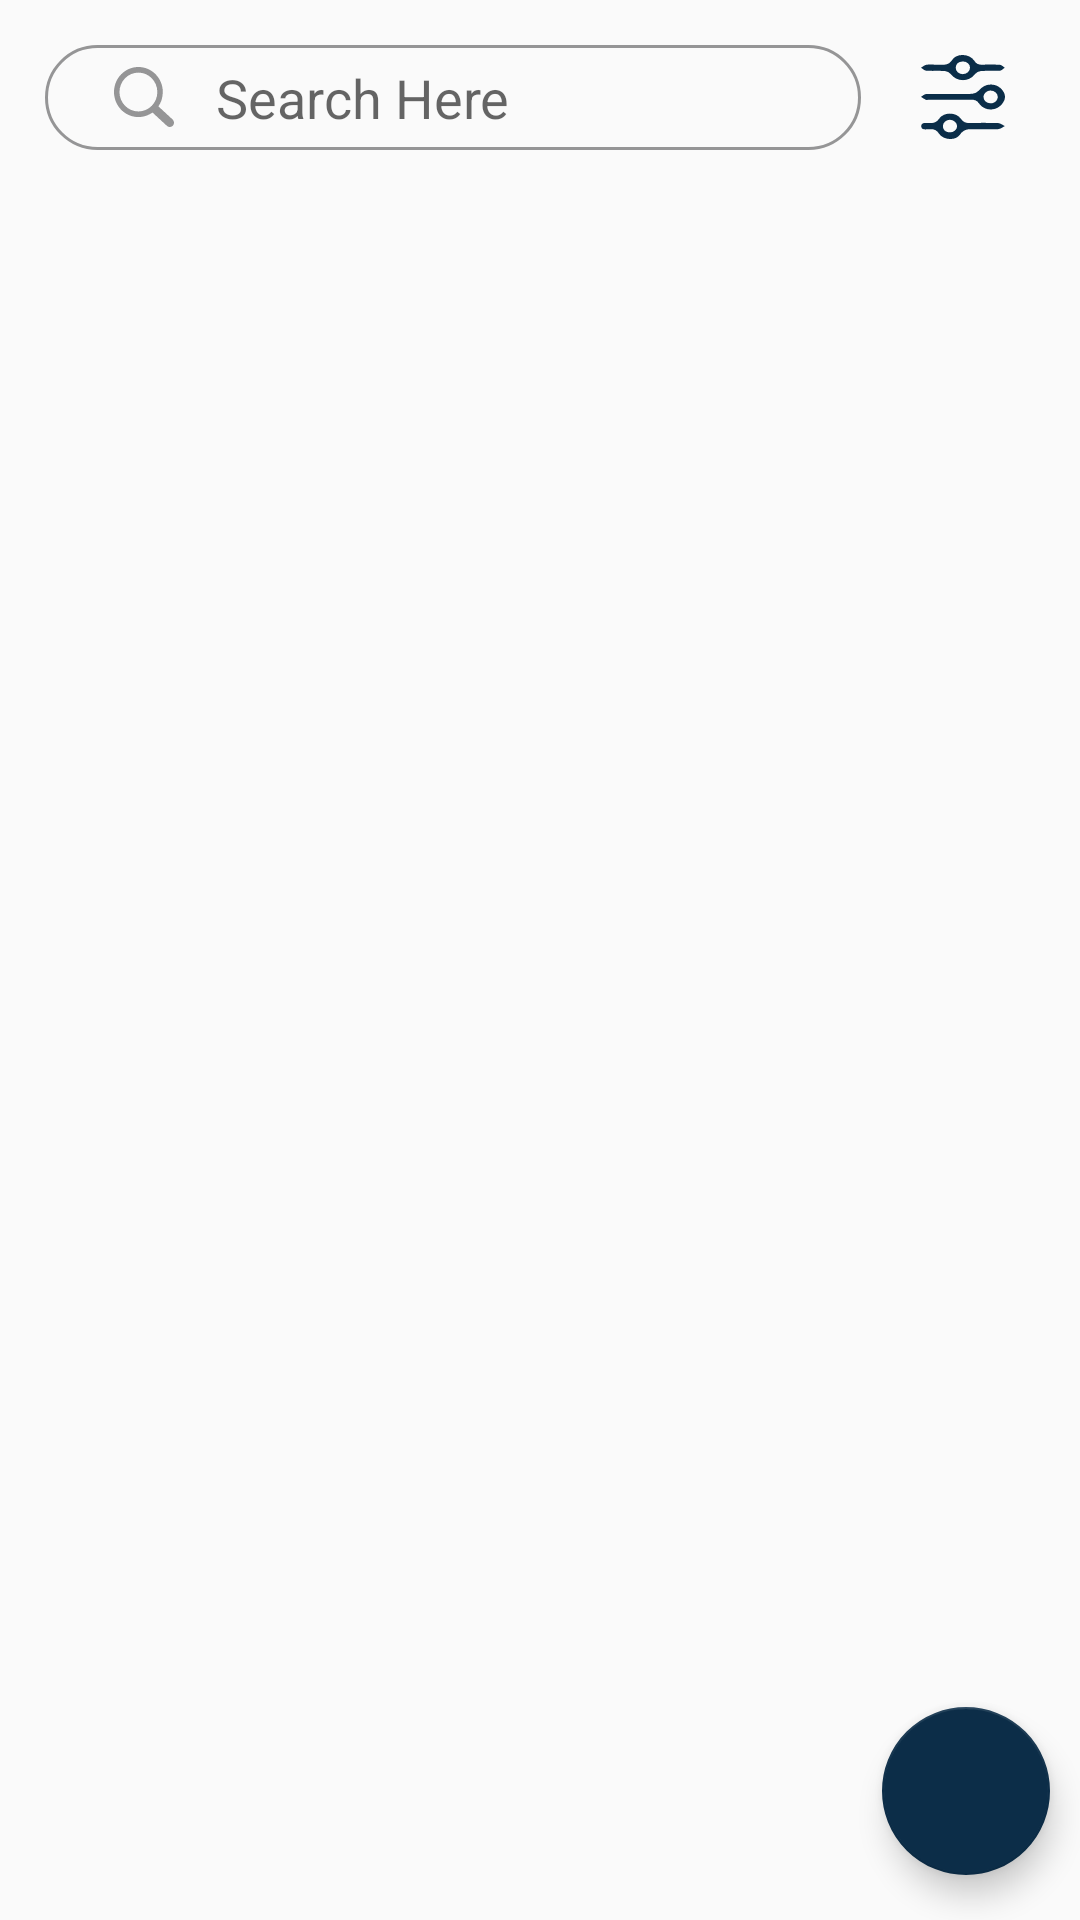

Screen size 1080x1920. Icon name, then its box in pixels as bbox=[x1, y1, x2, y2]:
filter: bbox=[921, 55, 1005, 139]
